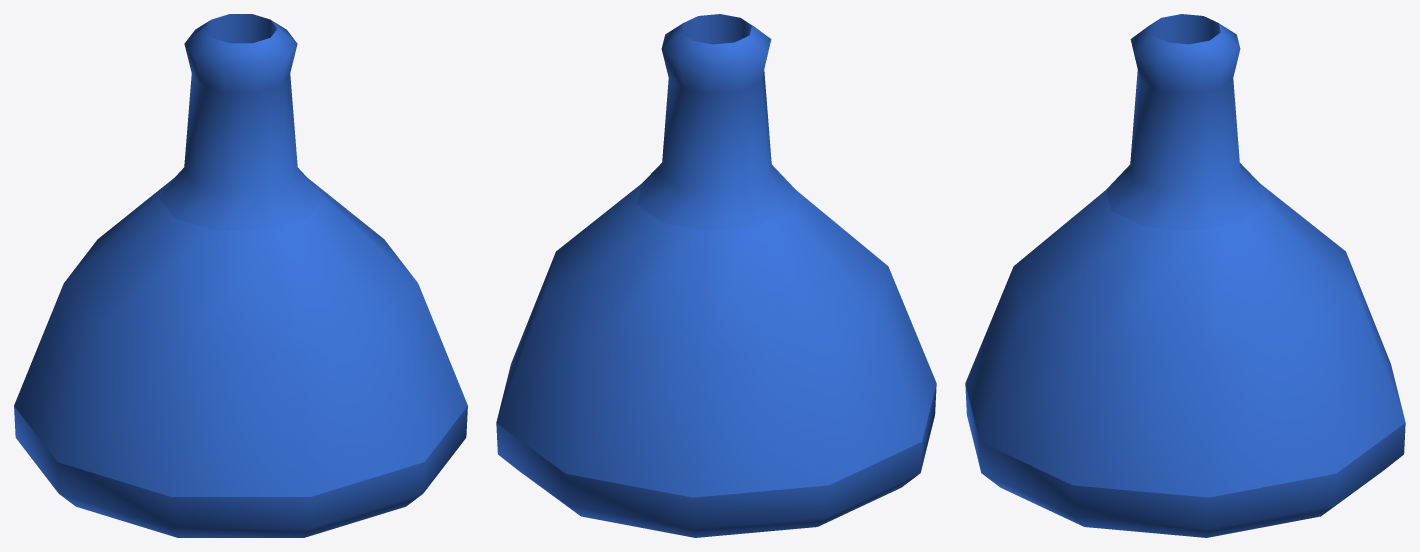
File: assets_bottle.fbx
The picture shows the model from 3 angles, left to right: view 1: azimuth 30°, elevation 25°; view 2: azimuth 150°, elevation 25°; view 3: azimuth 270°, elevation 25°; orthographic projection.
Visible parts, largest first — view 1: Circle002; view 2: Circle002; view 3: Circle002.
Part boxes in pixels (<box>): Circle002: <box>14,14,467,537</box>; Circle002: <box>496,14,936,537</box>; Circle002: <box>965,14,1405,537</box>.
Bounding box in the file's own units: 0.3262 × 0.3595 × 0.3208.
